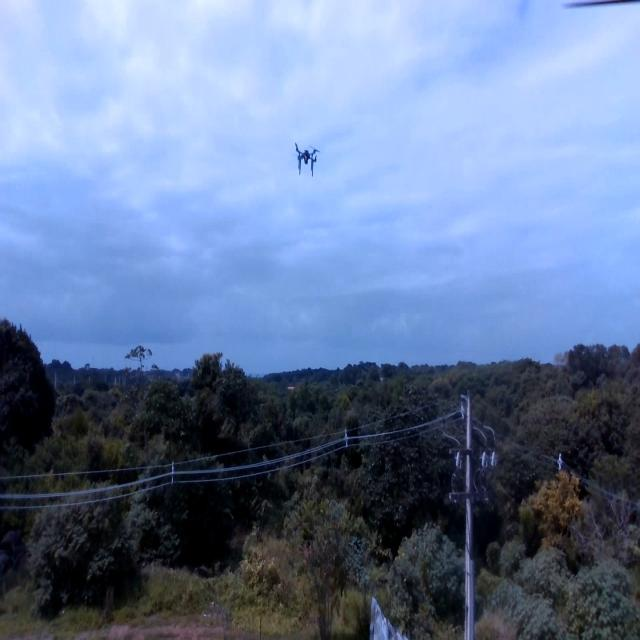-uav-: (289, 133, 324, 193)
